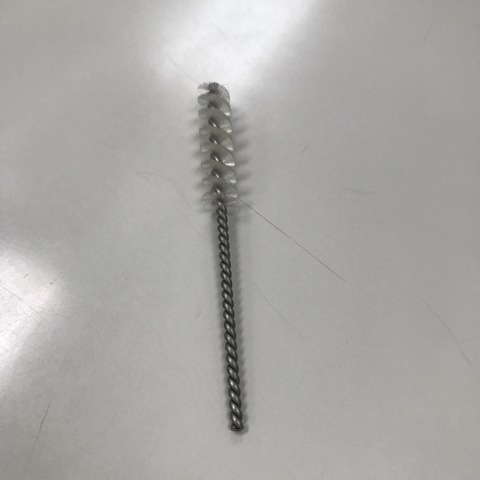Twist Brush-B: (185, 76, 259, 438)
